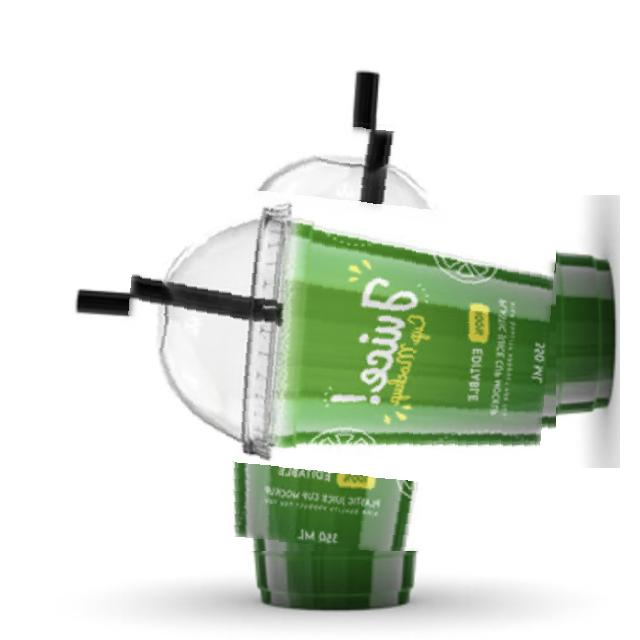recyclable: (118, 112, 556, 551)
